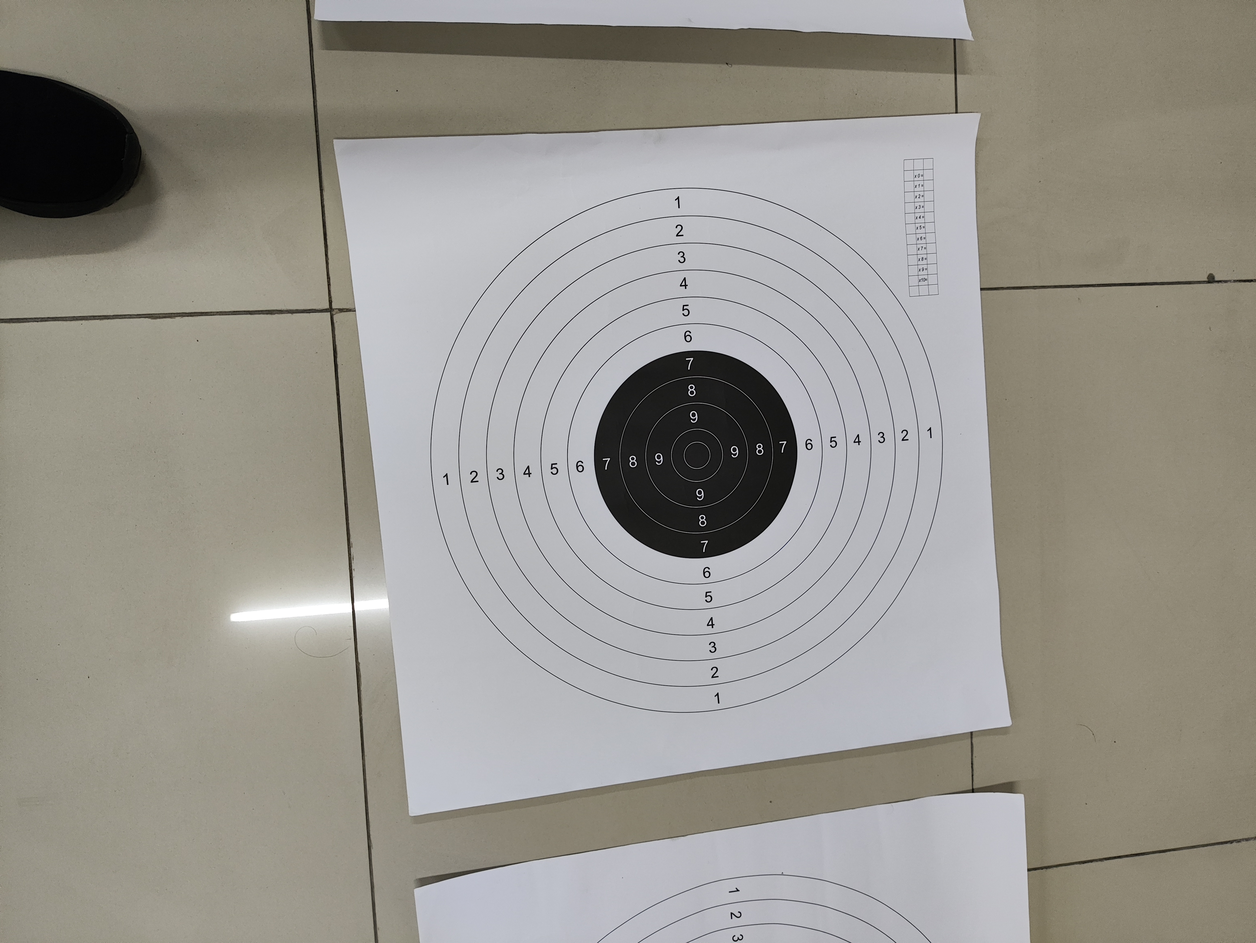target: (407, 166, 962, 736)
